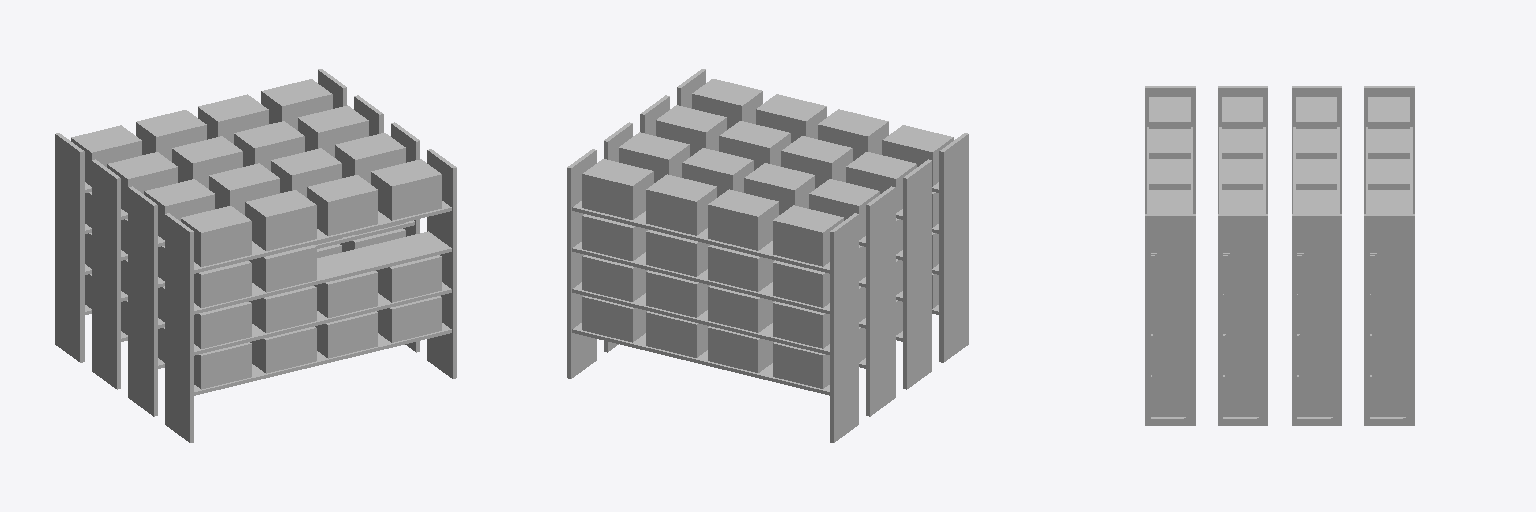
File: solidify.obj
The picture shows the model from 3 angles: view 1: azimuth 30°, elevation 25°; view 2: azimuth 150°, elevation 25°; view 3: azimuth 270°, elevation 25°; orthographic projection.
Parts seen in each view (by area): view 1: Cube.017_Cube.14245; view 2: Cube.017_Cube.14245; view 3: Cube.017_Cube.14245.
Boxes of the visible parts, <box> form: Cube.017_Cube.14245: <box>55,69,456,442</box>; Cube.017_Cube.14245: <box>567,69,968,442</box>; Cube.017_Cube.14245: <box>1145,86,1414,425</box>.
Size of the model in its own units: 3.48 by 2.63 by 3.05.